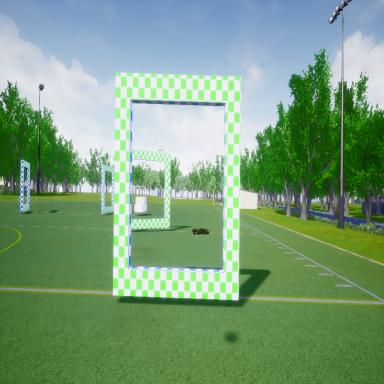gate: (110, 66, 242, 310), (20, 154, 31, 216)
